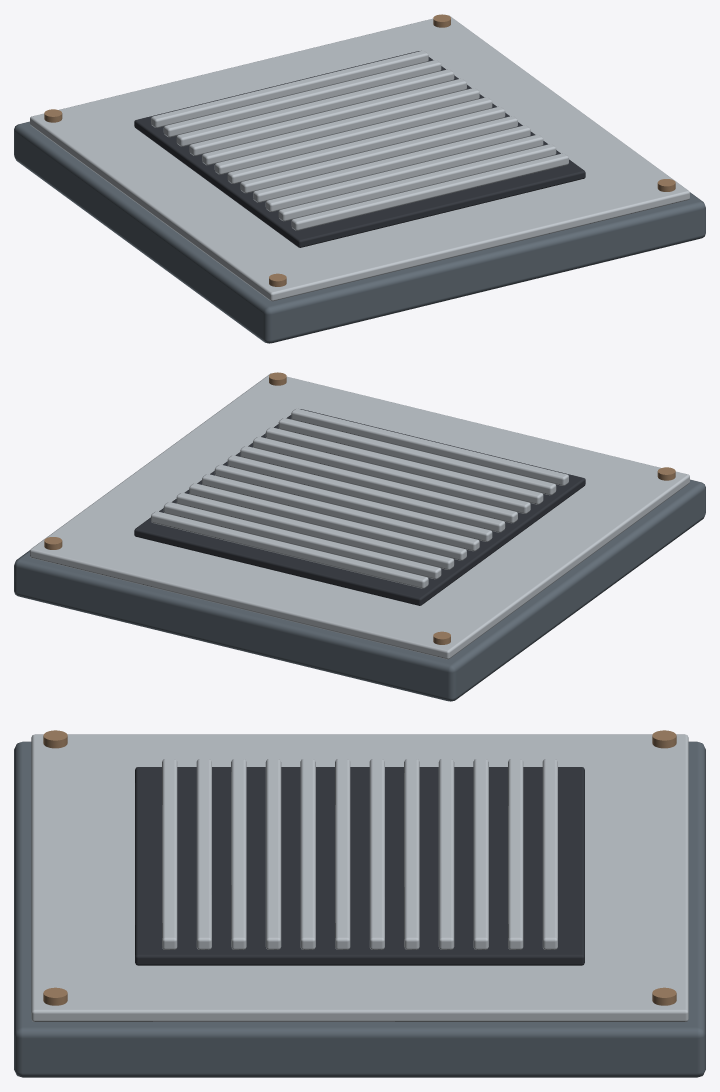
File: arena-shooter-map-kit-metal-floor-vent-3a4f7f22__23064.glb
3 renders of one model, top to bottom at view 1: azimuth 30°, elevation 25°; view 2: azimuth 150°, elevation 25°; view 3: azimuth 270°, elevation 25°, orthographic. The views are drawn at different scales.
Parts seen in each view (by area): view 1: metal-floor-vent; view 2: metal-floor-vent; view 3: metal-floor-vent.
Part boxes in pixels (x1,y1,x2,y2): metal-floor-vent: (14,14,705,343); metal-floor-vent: (14,372,705,701); metal-floor-vent: (14,730,705,1077).
Bounding box in the file's own units: 2 × 0.2759 × 2.
